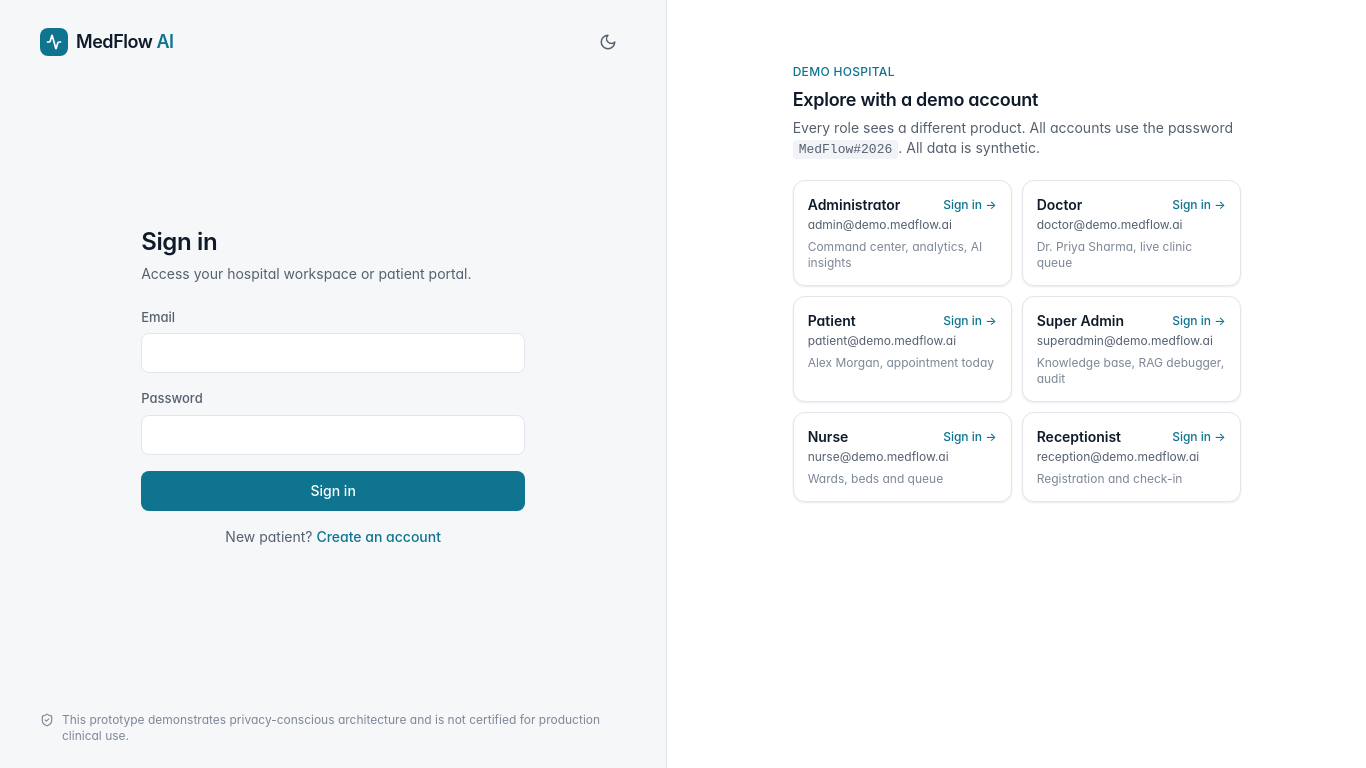
Test: login form › shows the server message when credentials are wrong
In the field labelled "Email": (333, 353) [141,333,525,373], type "doctor@demo.medflow.ai"
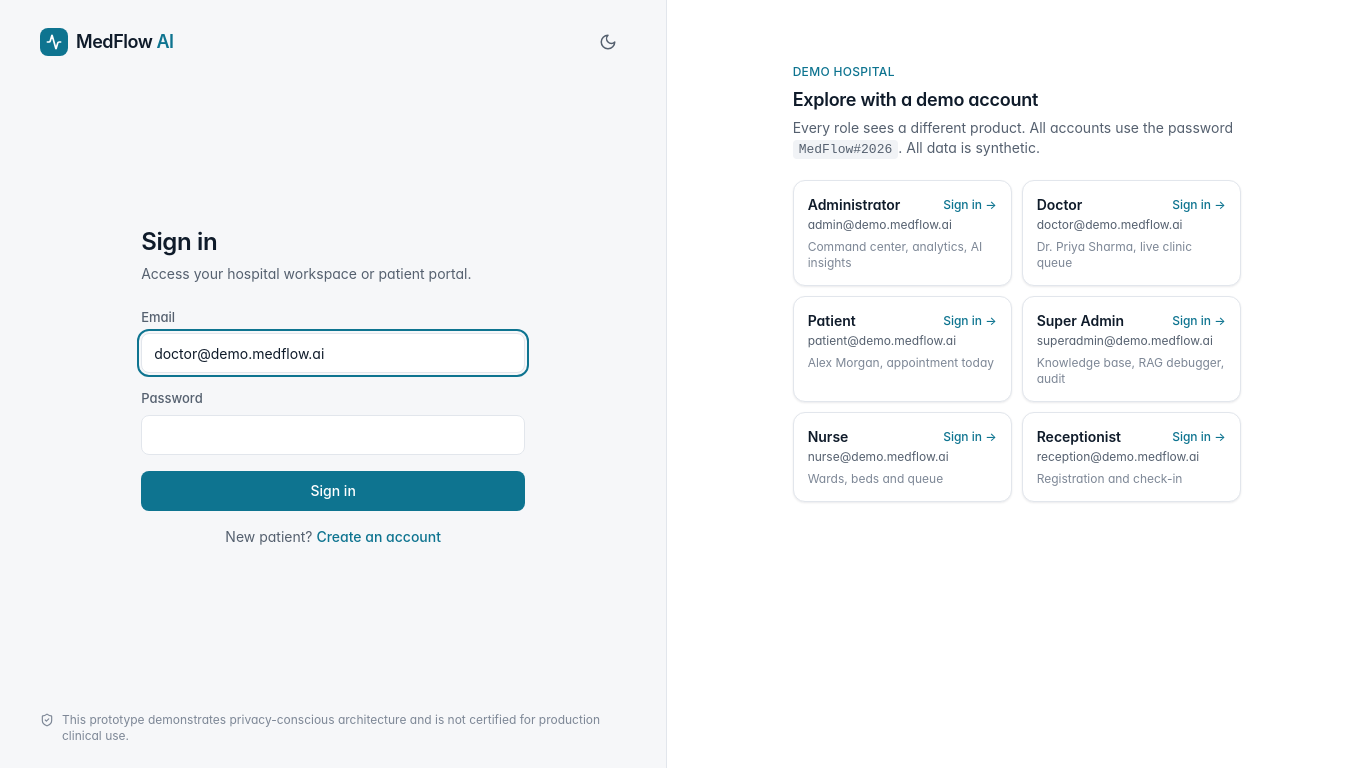
In the password field labelled "Password": (333, 434) [141,414,525,454], type "wrong"
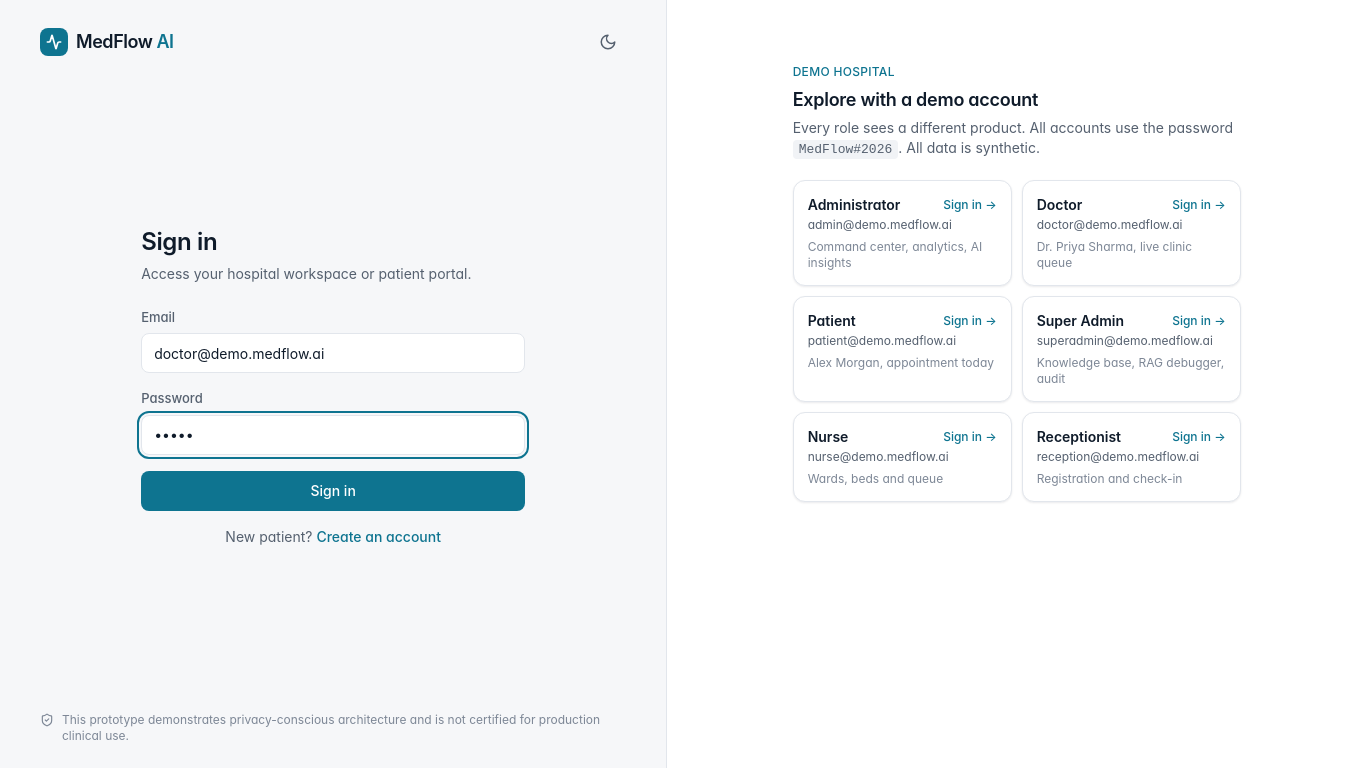
Click the button "Sign in": (333, 490) [141,470,525,510]
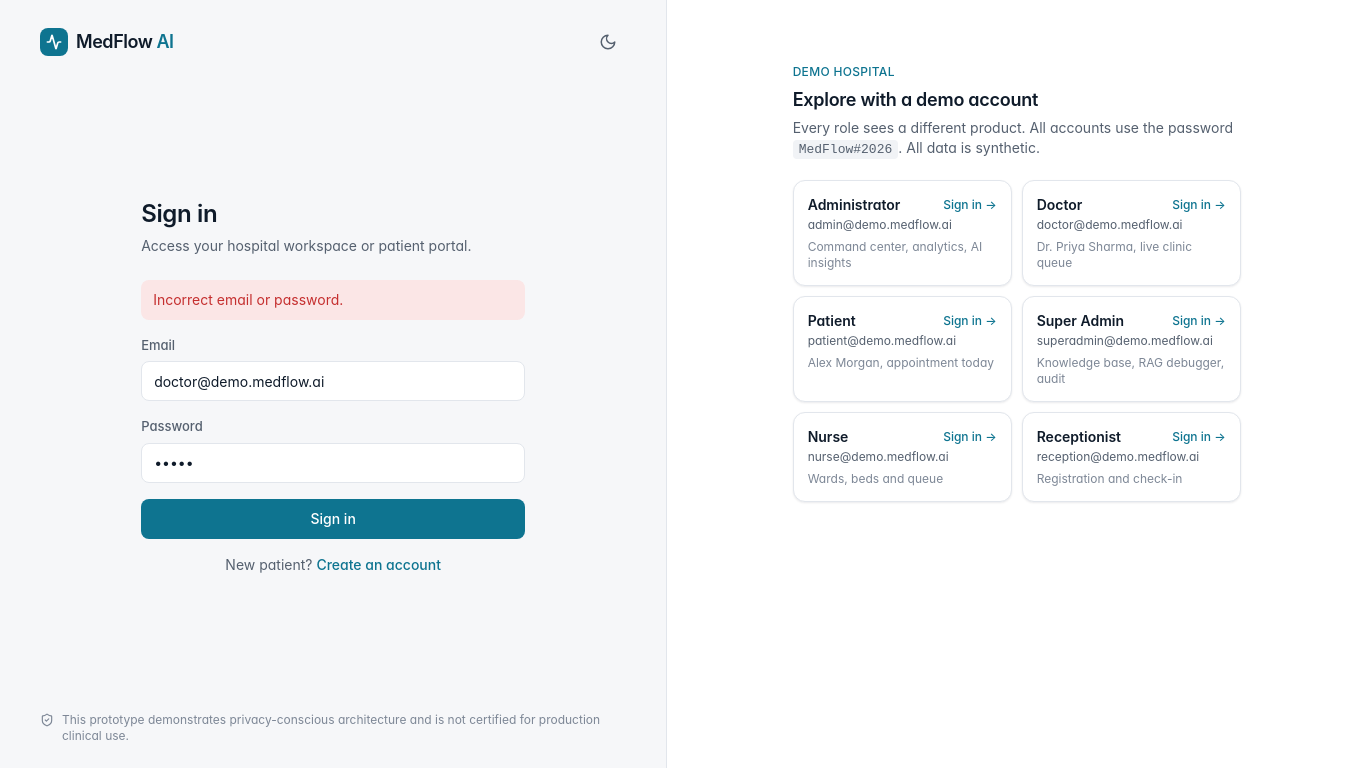
Expected: the message reads "Incorrect email or password.", [153,290,343,308]
